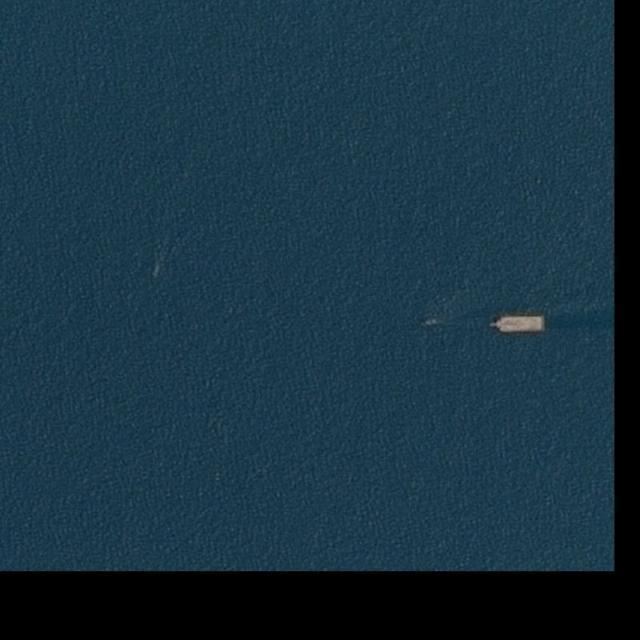ship: (490, 315, 546, 334), (152, 265, 162, 277), (425, 318, 436, 326)
